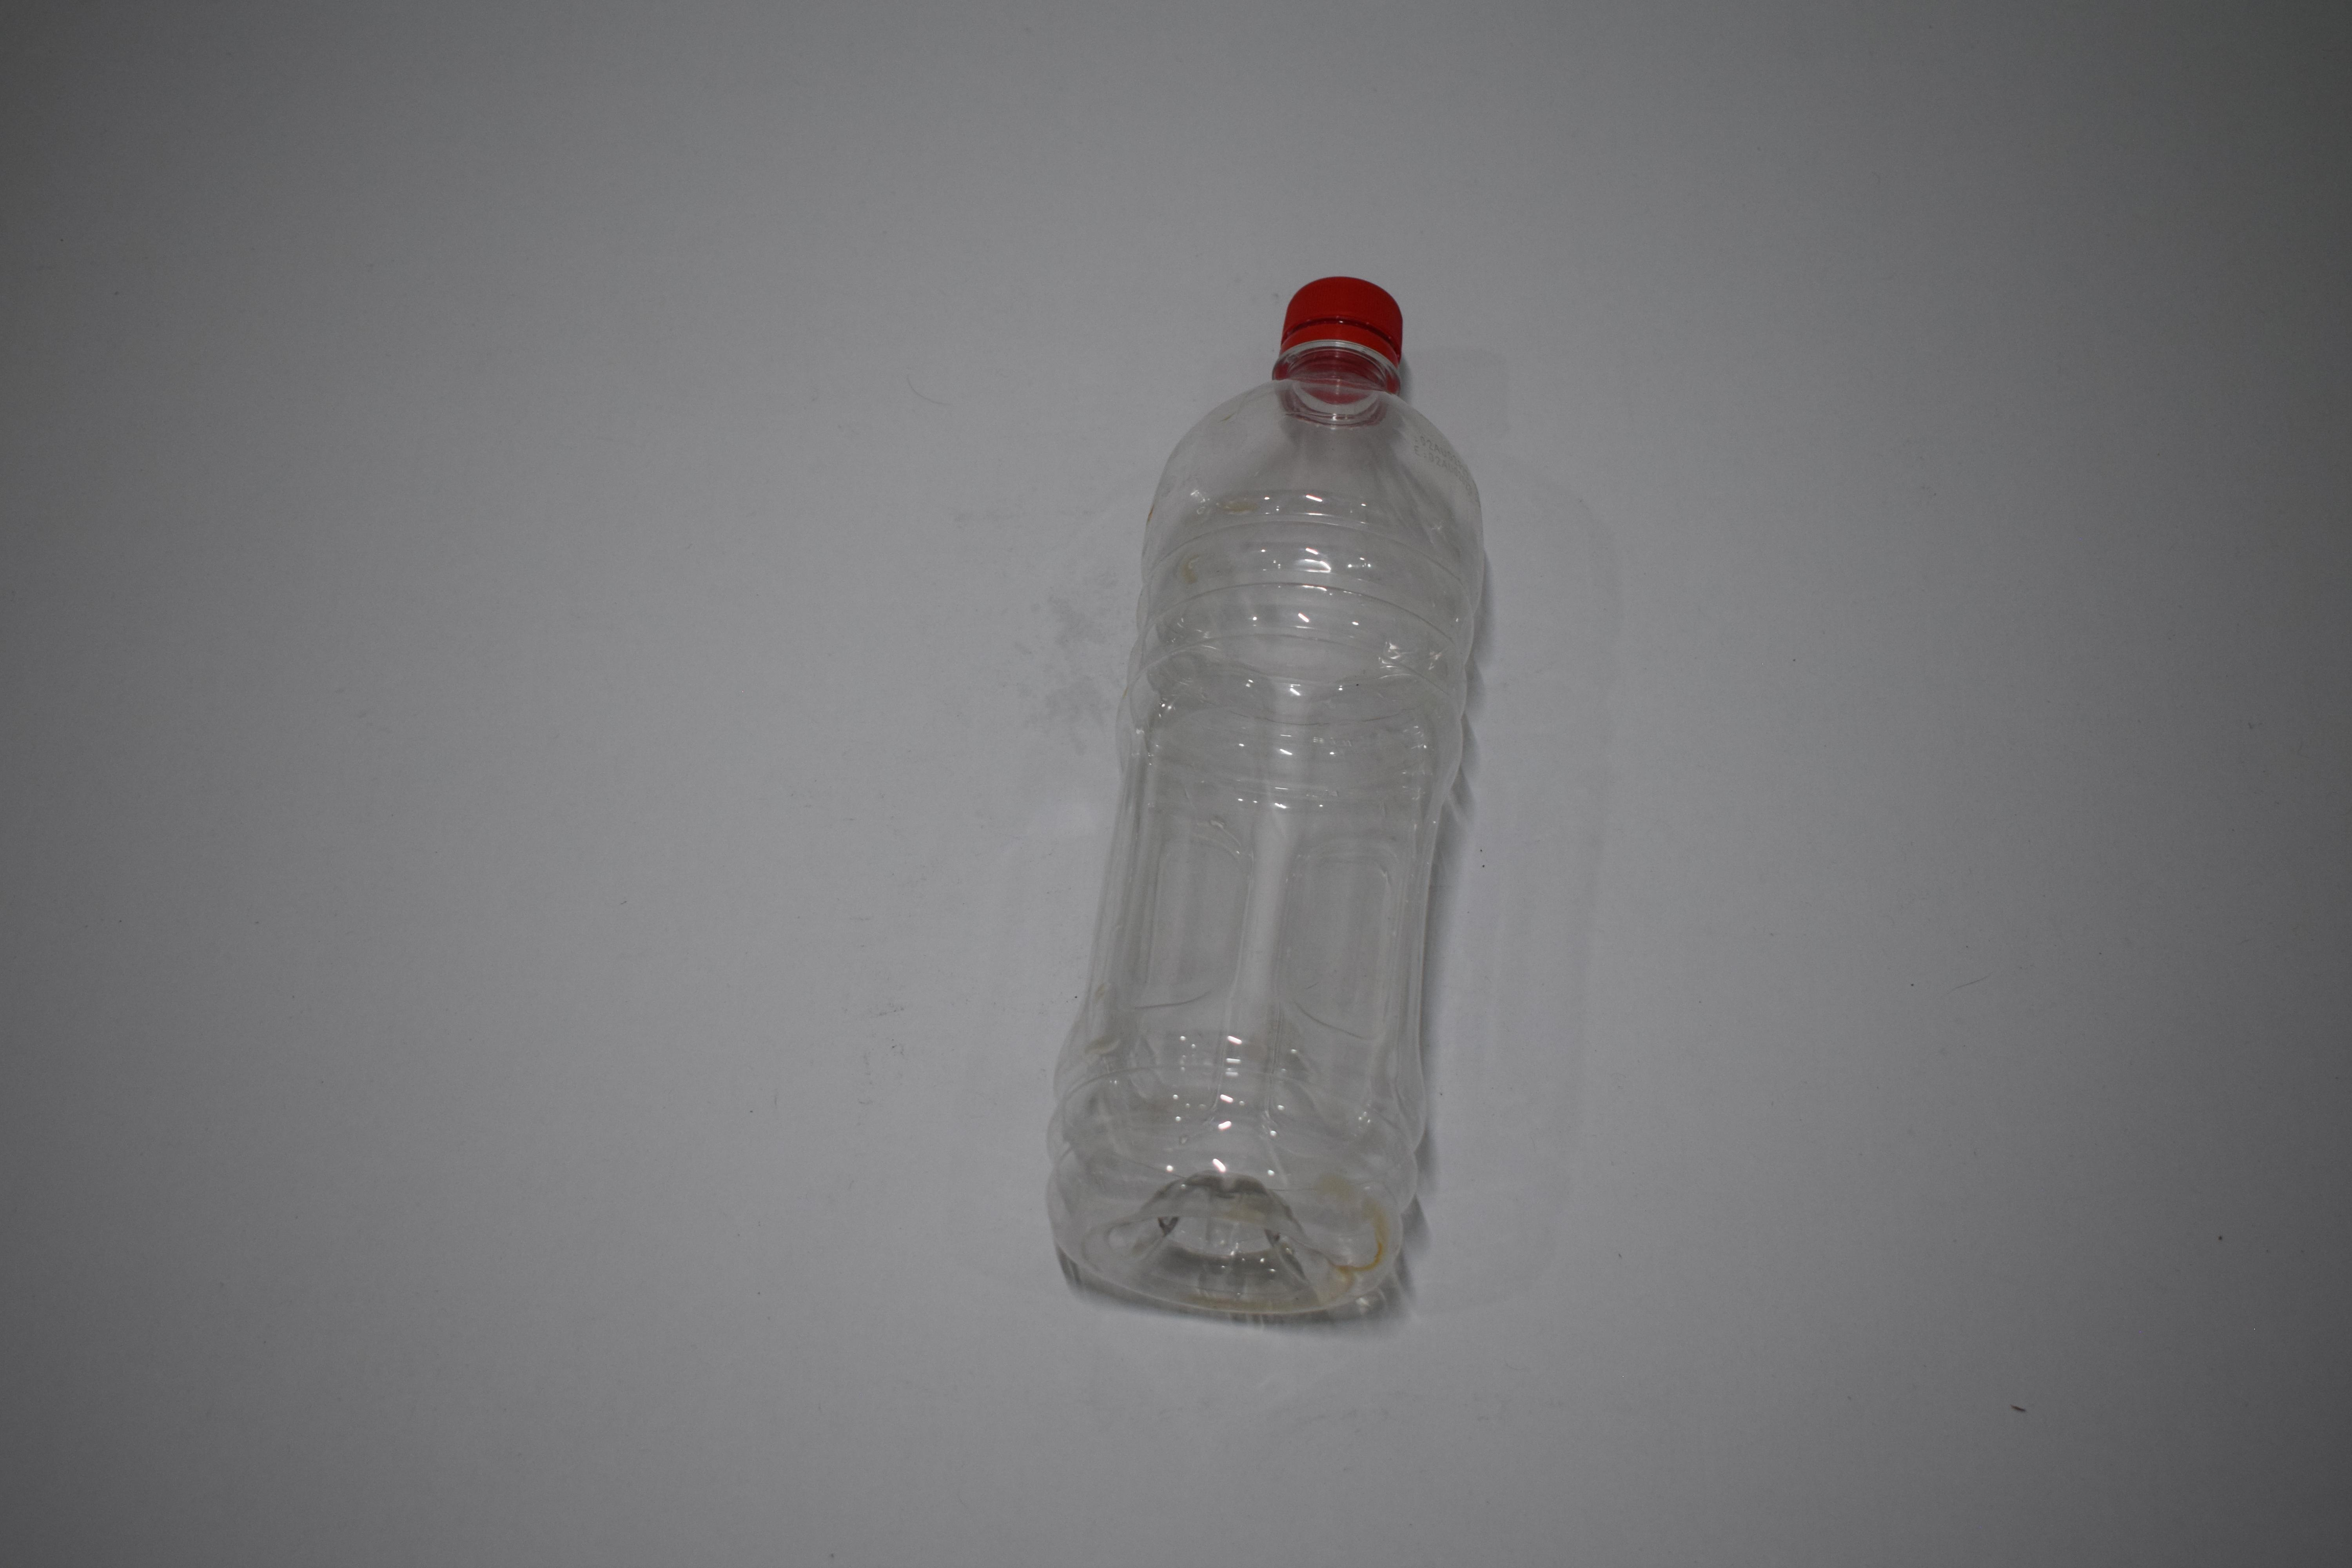bottle: (0, 0, 322, 548)
